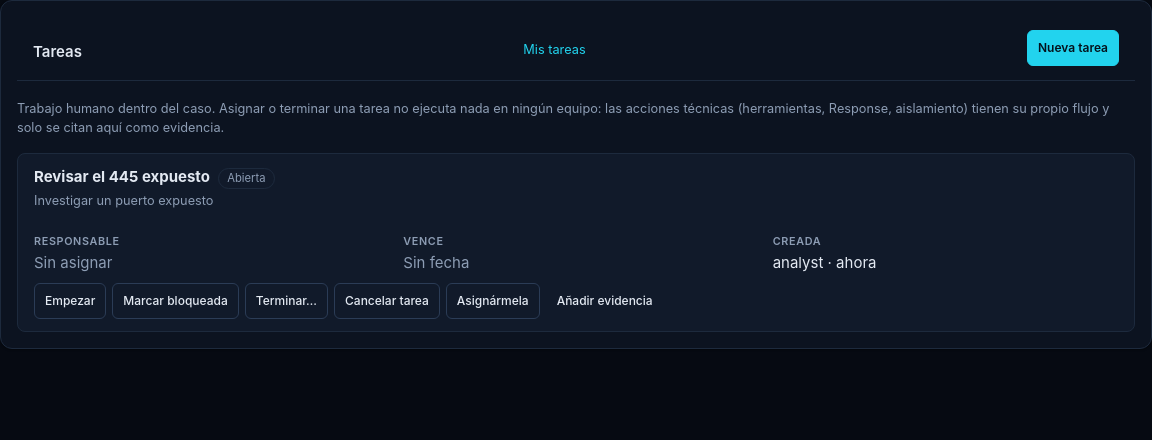
Scenario: Tareas del caso (Fase 7A.6) › un 409 de versión pide recargar y no reintenta solo
What coordinates should you click on to do the following:
click the button "Asignármela"
I would click on:
 (493, 301)
Its box is [446,283,540,319].
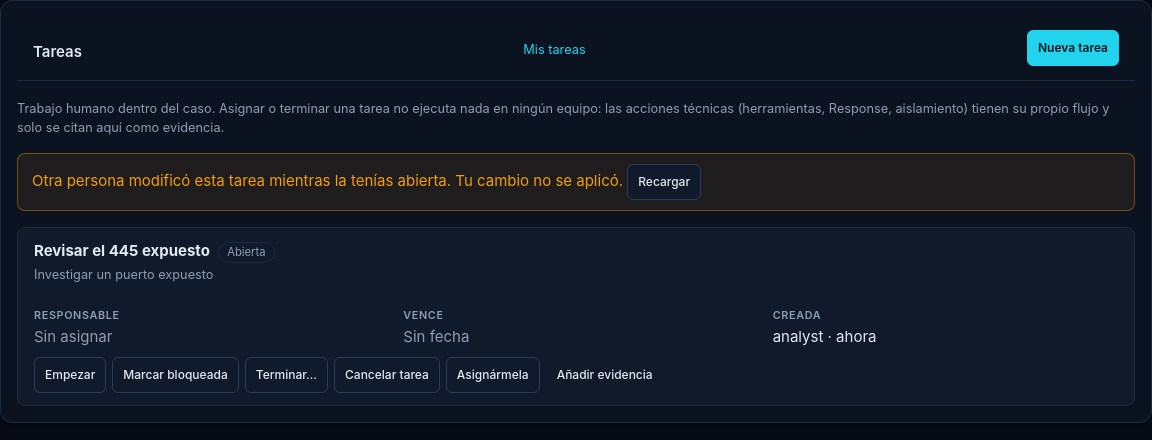
expect the text "Otra persona modificó esta tarea" is shown: met, box [32,171,623,190]
expect the button "Recargar" is shown: met, box [627,164,701,200]
